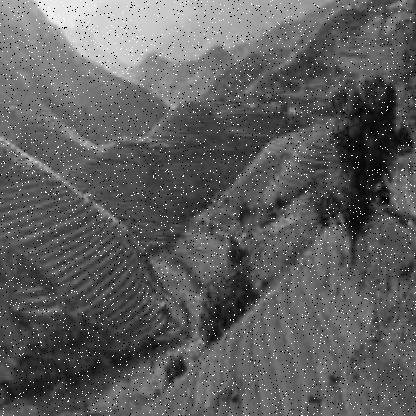stair_up: (5, 181, 174, 333)
